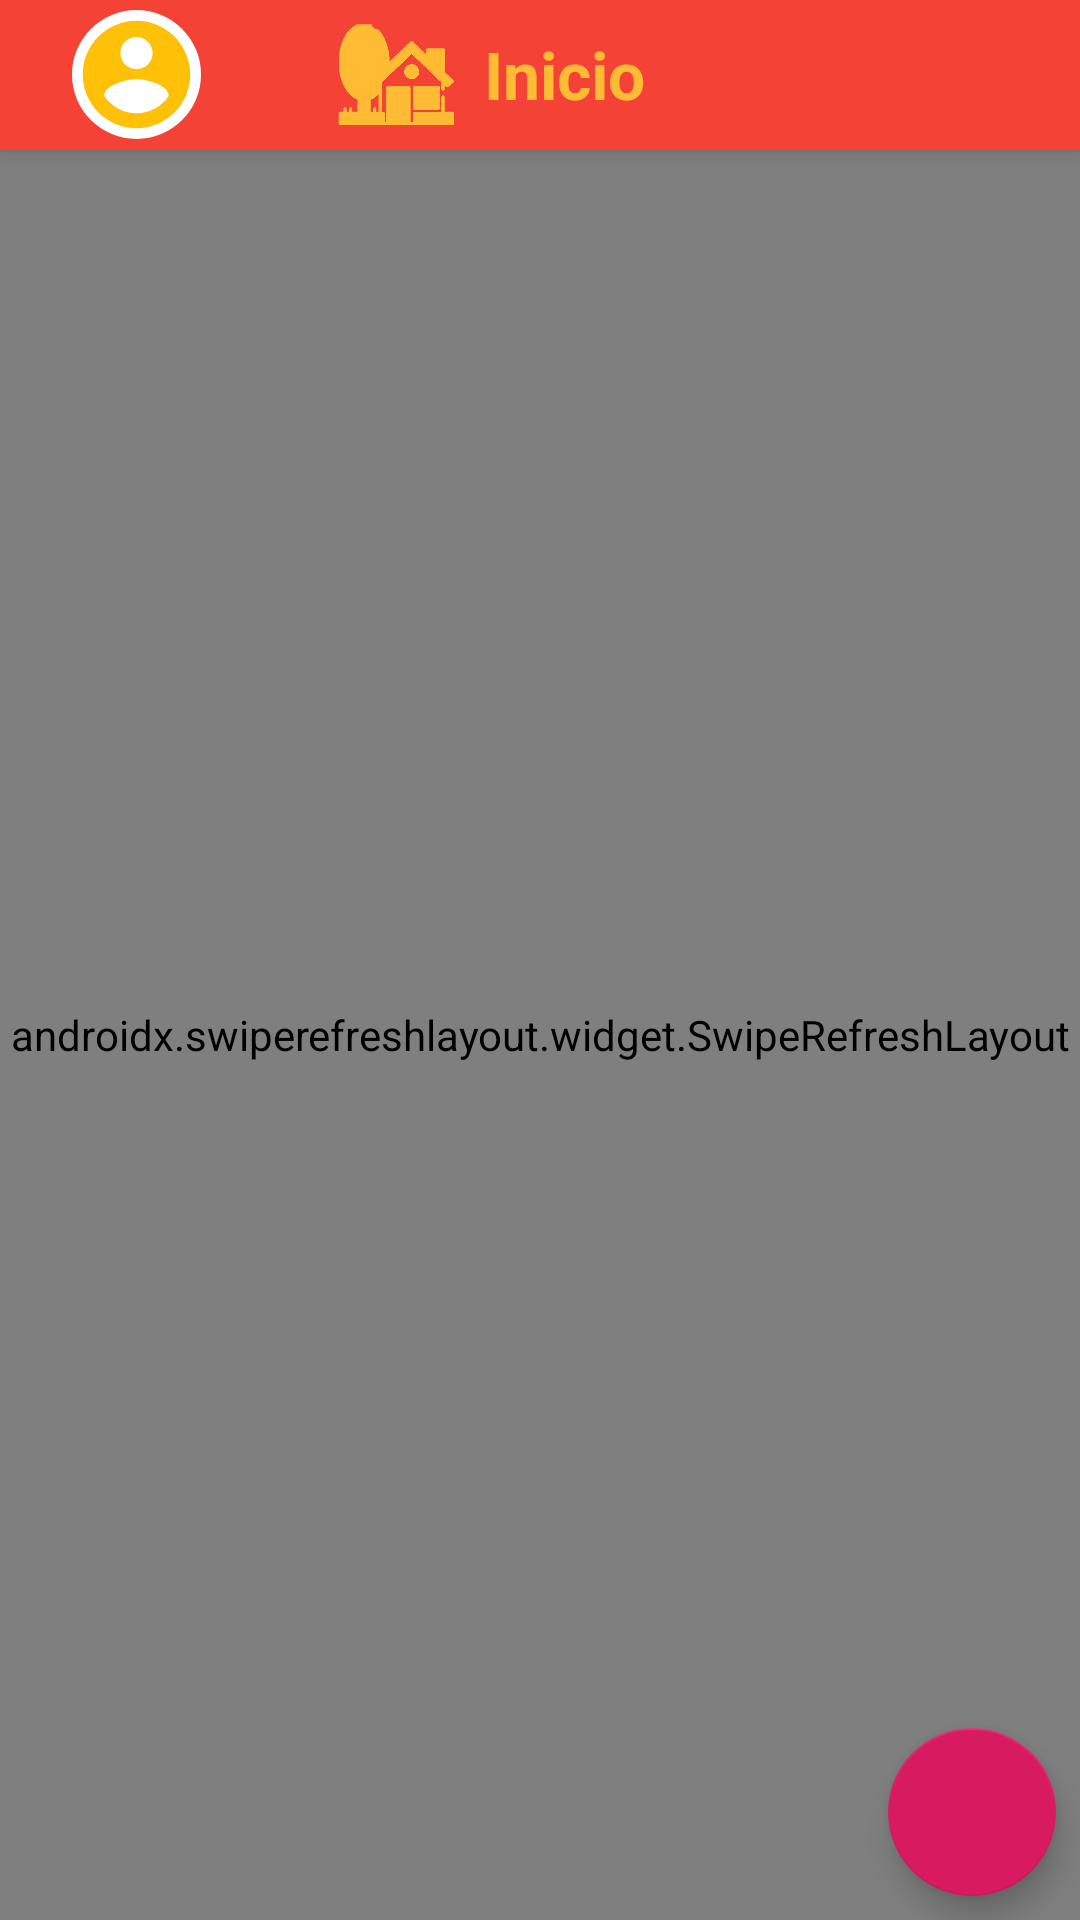

Icons on this 1080px x 1920px Android screen, each with its box as box(x1, y1, x2, y2):
account: box(72, 10, 201, 139)
casa: box(338, 24, 454, 125)
